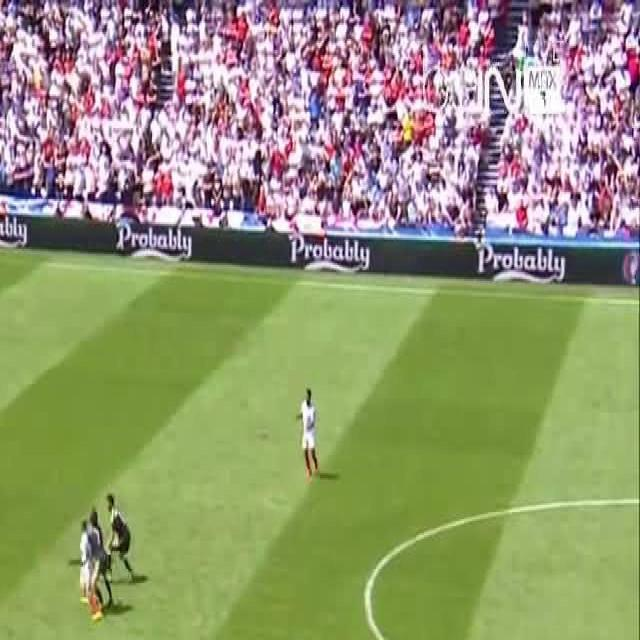player-white: (85, 506, 113, 620), (105, 492, 132, 582), (296, 387, 320, 479), (78, 519, 92, 606)
